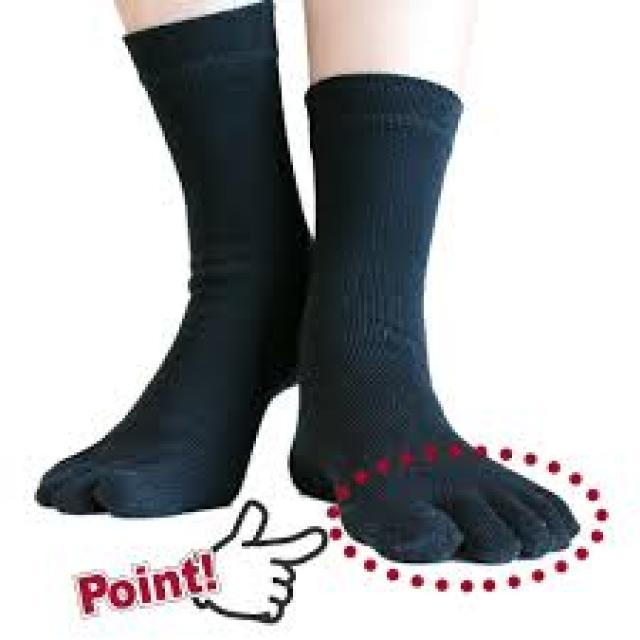sock: (31, 0, 313, 518), (288, 68, 580, 563)
